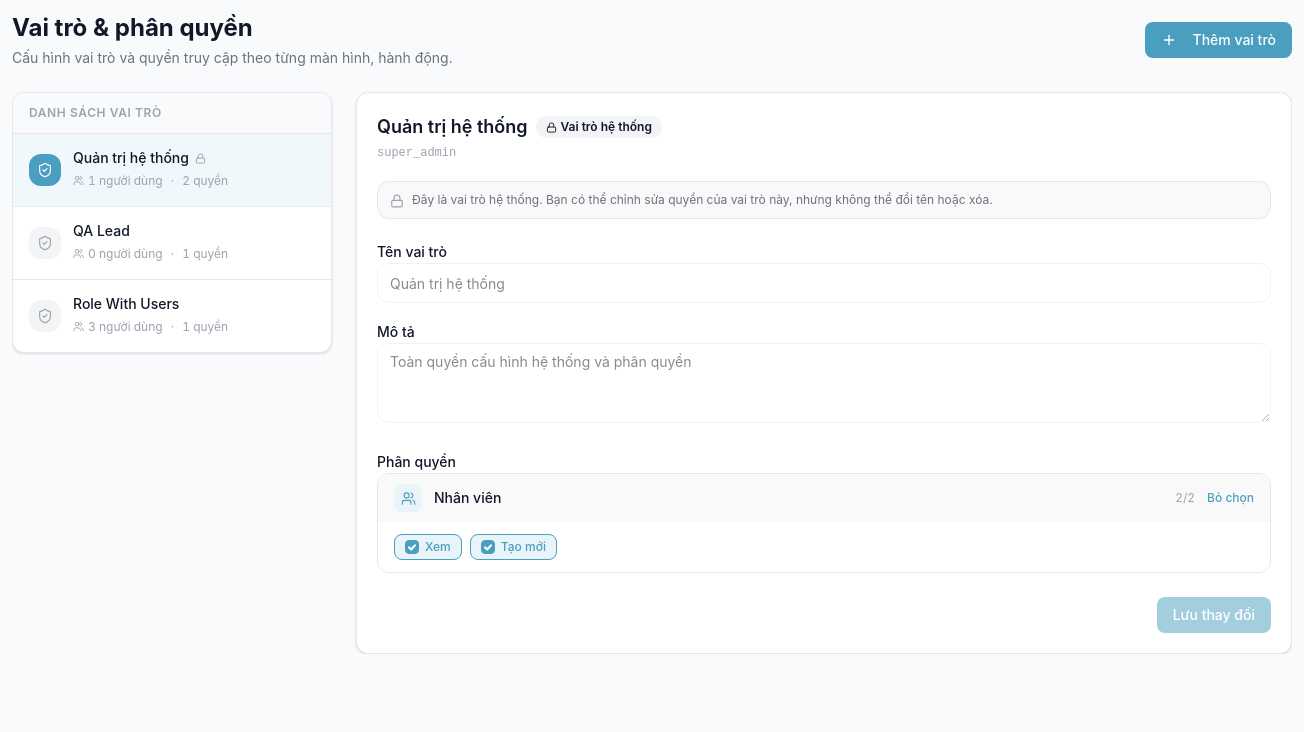
Scenario: RolesPage › keeps a custom role name exactly as entered (never translated)
Click the text "QA Lead".
click(101, 231)  # box 73,221 -> 130,241
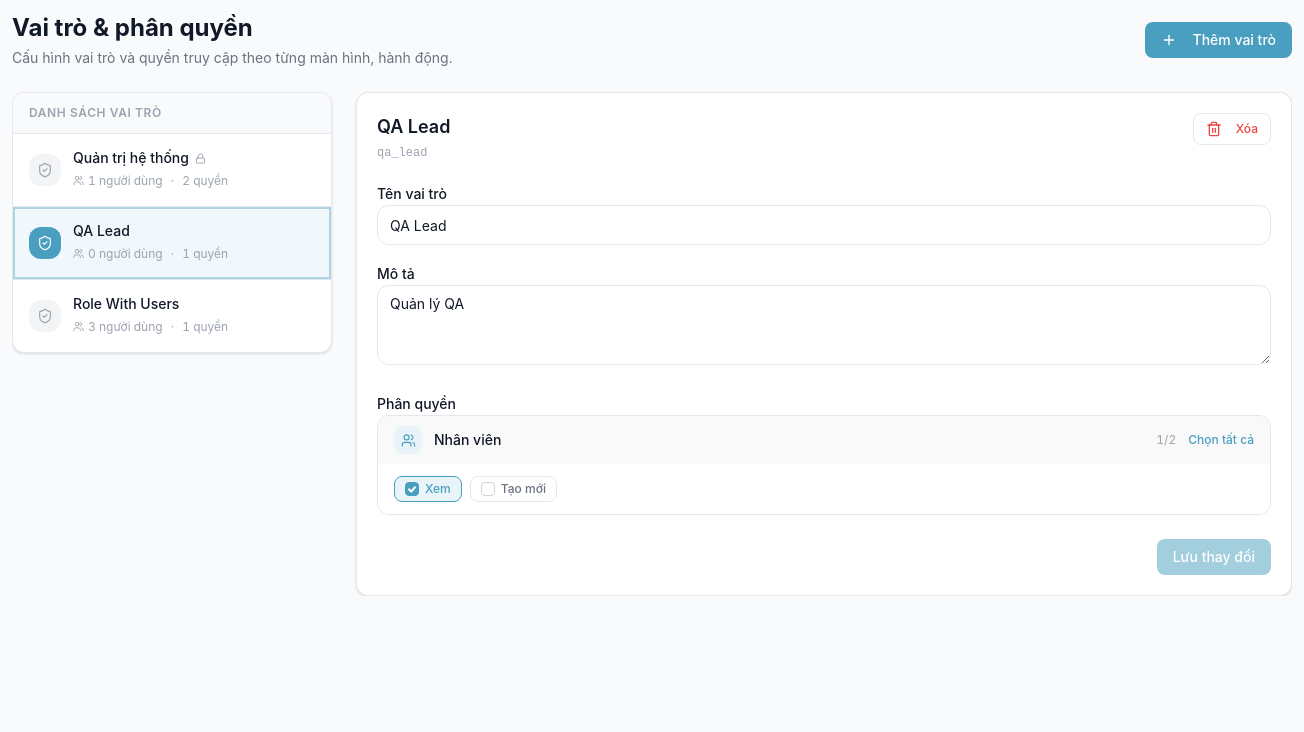
Check: the field labelled "Tên vai trò" holds "QA Lead", box 377,205 -> 1271,245
Check: the text box labelled "Mô tả" holds "Quản lý QA", box 377,285 -> 1271,365
